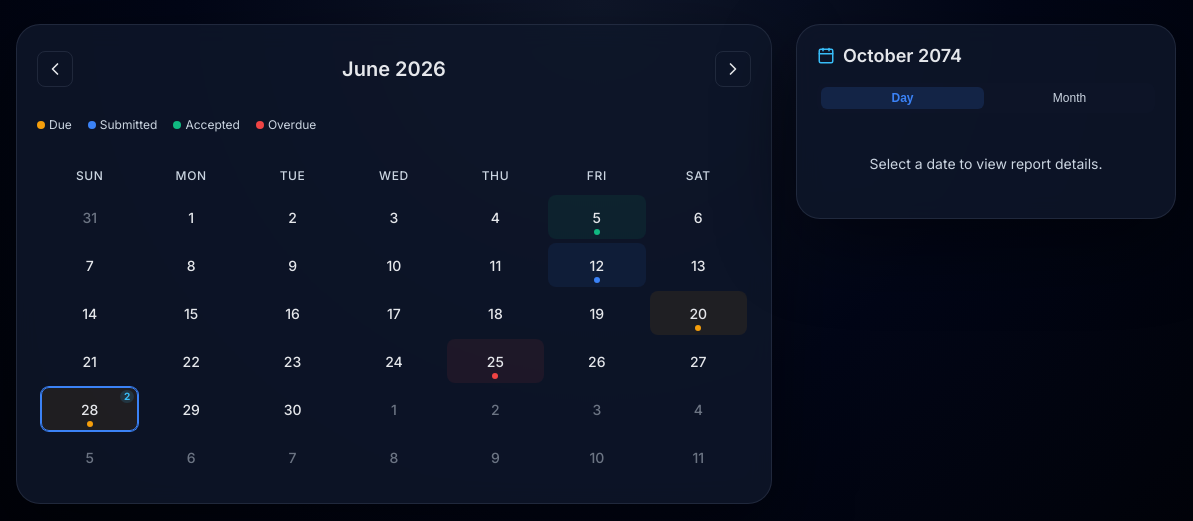
Scenario: RevenueReportingCalendar › Details panel › shows empty state when no reports for selected date
This screenshot has width=1193, height=521.
What coordinates should you click on to do the following:
click the cell labelled "15"
I would click on:
 (191, 314)
Its box is [184,305,198,322].
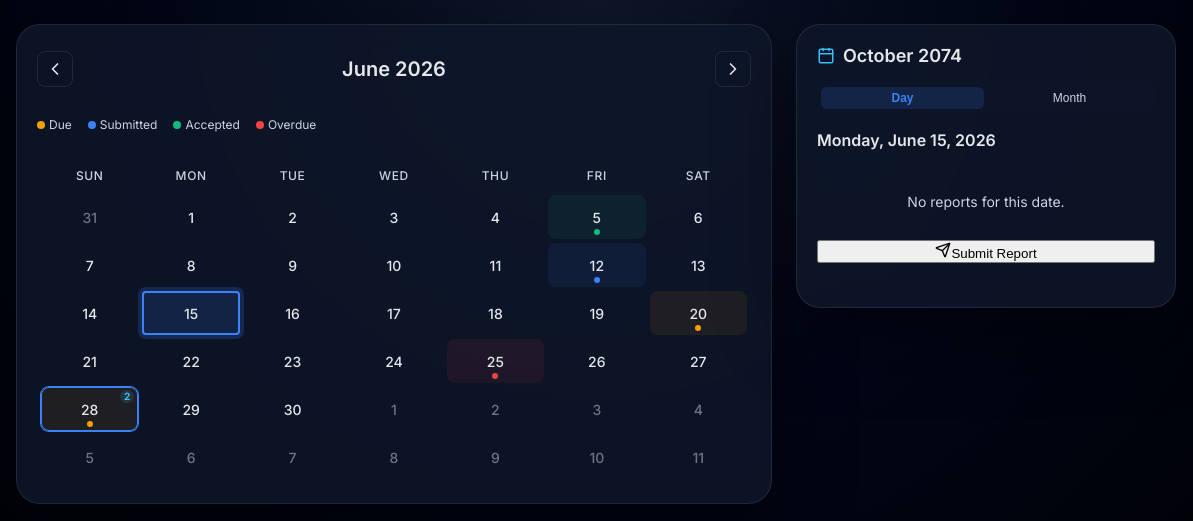
Now the text "No reports for this date." is shown, box [907,191,1065,212]
